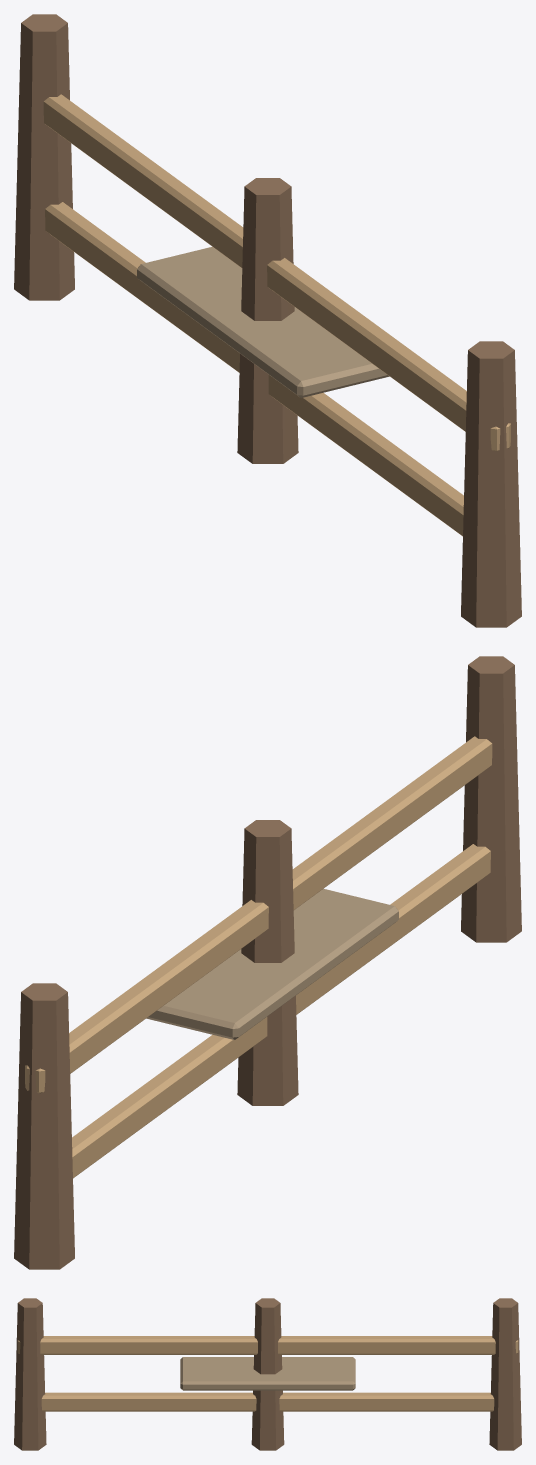
The model's file is town_cow_pen_fence.glb.
3 renders of one model, top to bottom at view 1: azimuth 30°, elevation 25°; view 2: azimuth 150°, elevation 25°; view 3: azimuth 270°, elevation 25°, orthographic. The views are drawn at different scales.
Visible parts, largest first — view 1: world; view 2: world; view 3: world.
Boxes of the visible parts, box(x1,y1,x2,y2) form: world: box(14, 14, 521, 627); world: box(14, 656, 521, 1269); world: box(14, 1298, 521, 1450).
Bounding box in the file's own units: 0.2463 × 0.6158 × 2.
